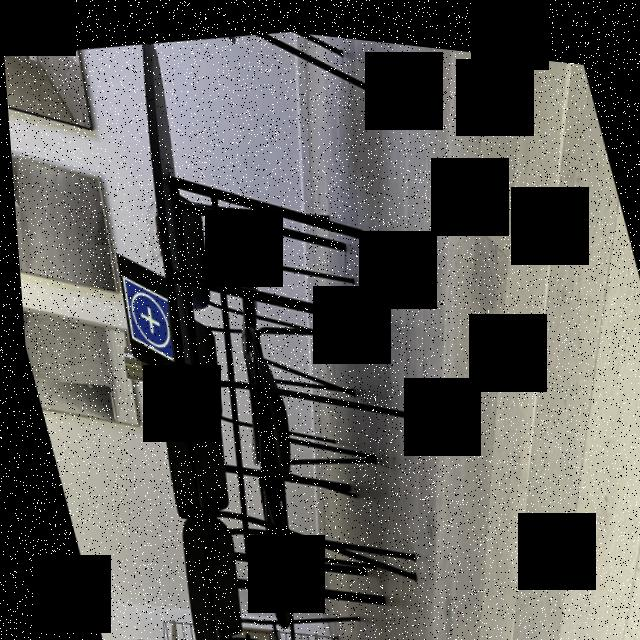Marker: (111, 266, 178, 366)
